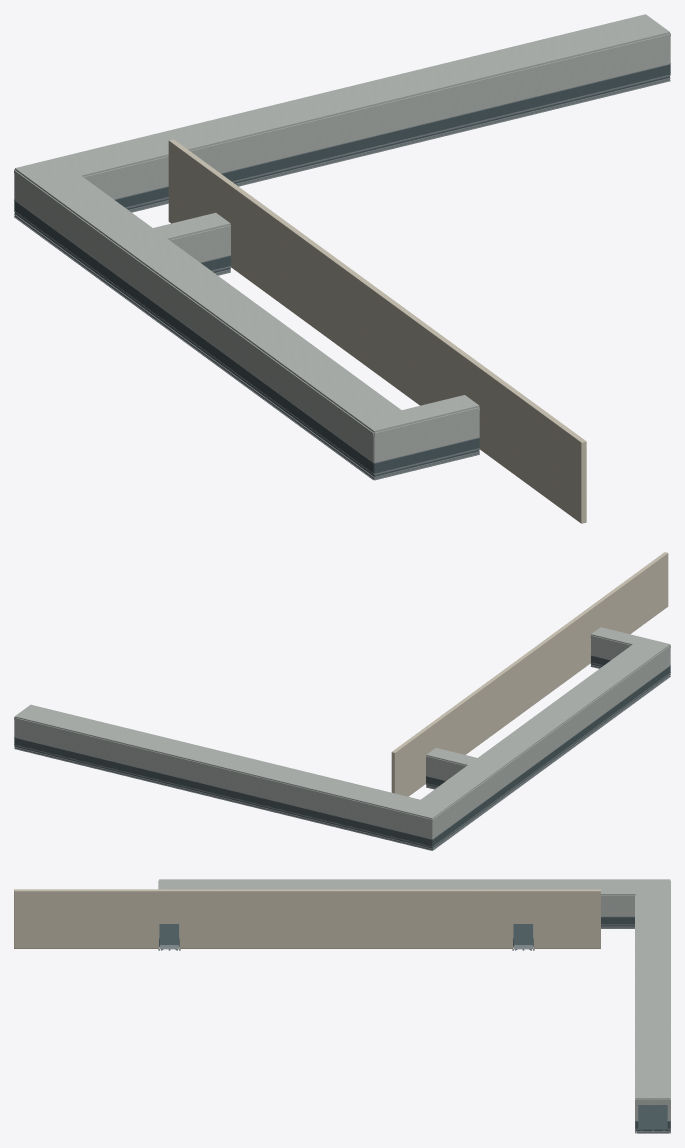
The model's file is MOONFRUIT_SERVICE_RECEIVER_r002.glb.
3 views of the same model, one above another, from view 1: azimuth 30°, elevation 25°; view 2: azimuth 150°, elevation 25°; view 3: azimuth 270°, elevation 25° (orthographic). The views are drawn at different scales.
Parts seen in each view (by area): view 1: MFS_BATCH_001, MFS_EXACT_WEST_SUCCESSOR, MFS_BATCH_000, MFS_BATCH_002; view 2: MFS_BATCH_001, MFS_EXACT_WEST_SUCCESSOR, MFS_BATCH_000, MFS_BATCH_002; view 3: MFS_EXACT_WEST_SUCCESSOR, MFS_BATCH_001, MFS_BATCH_000, MFS_BATCH_002.
Part boxes in pixels (x1,y1,x2,y2): MFS_BATCH_001: [14, 14, 670, 462]; MFS_EXACT_WEST_SUCCESSOR: [168, 139, 586, 523]; MFS_BATCH_000: [14, 64, 670, 476]; MFS_BATCH_002: [14, 63, 670, 480]; MFS_BATCH_001: [14, 627, 670, 839]; MFS_EXACT_WEST_SUCCESSOR: [391, 552, 668, 796]; MFS_BATCH_000: [14, 656, 670, 848]; MFS_BATCH_002: [14, 655, 670, 850]; MFS_EXACT_WEST_SUCCESSOR: [14, 889, 600, 948]; MFS_BATCH_001: [158, 879, 670, 1120]; MFS_BATCH_000: [159, 917, 670, 1131]; MFS_BATCH_002: [158, 916, 670, 1133].
Size of the model in its own units: 60.39 by 7.86 by 76.09.
6 materials, 5 textured.
